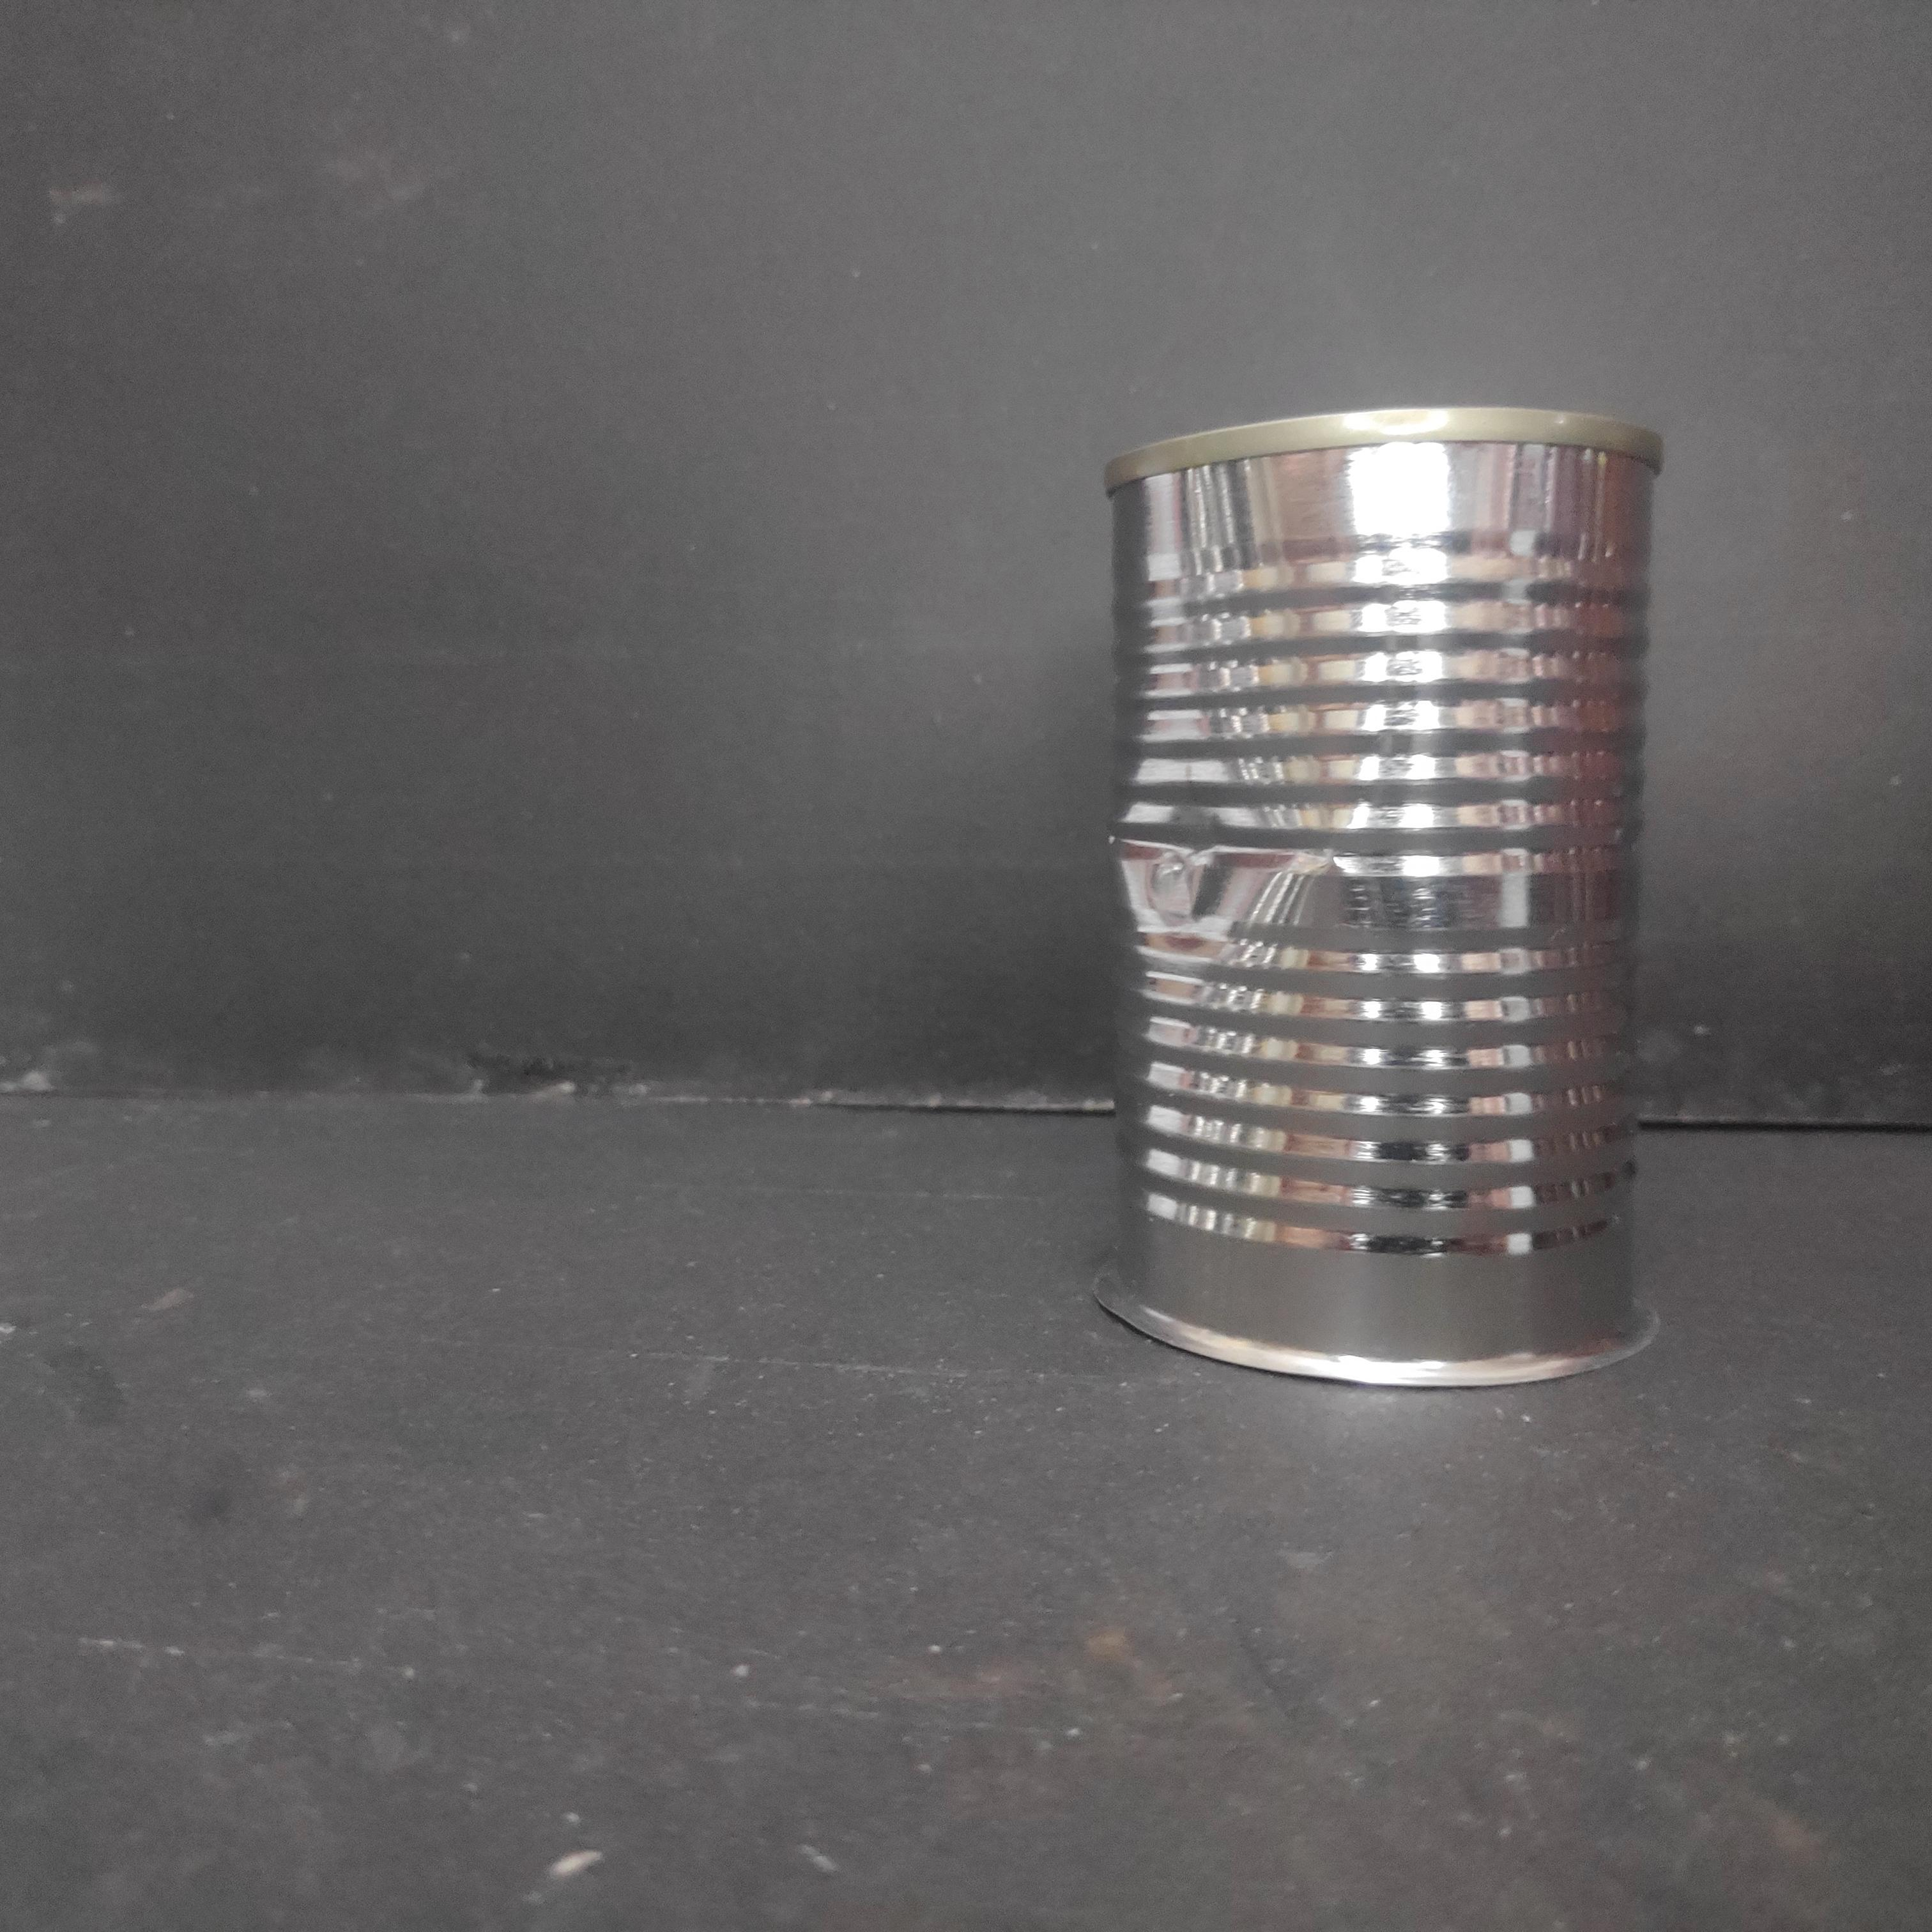Minor Defect: (1090, 391, 1674, 1399)
